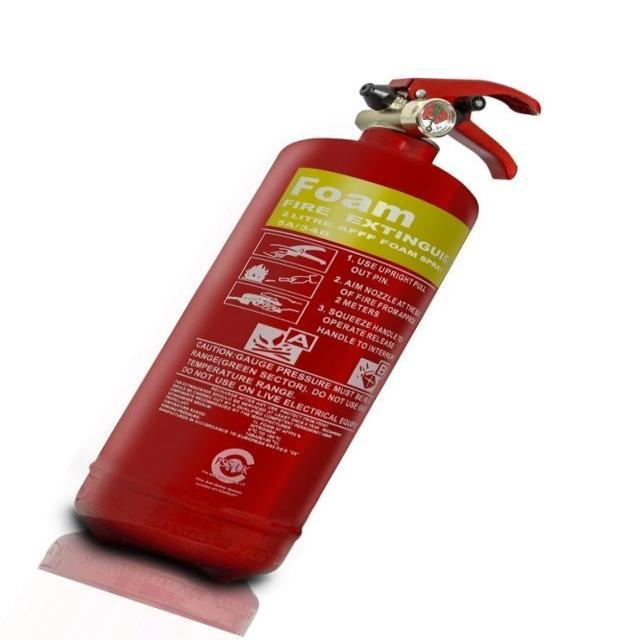fire_extinguisher: (66, 71, 546, 589)
